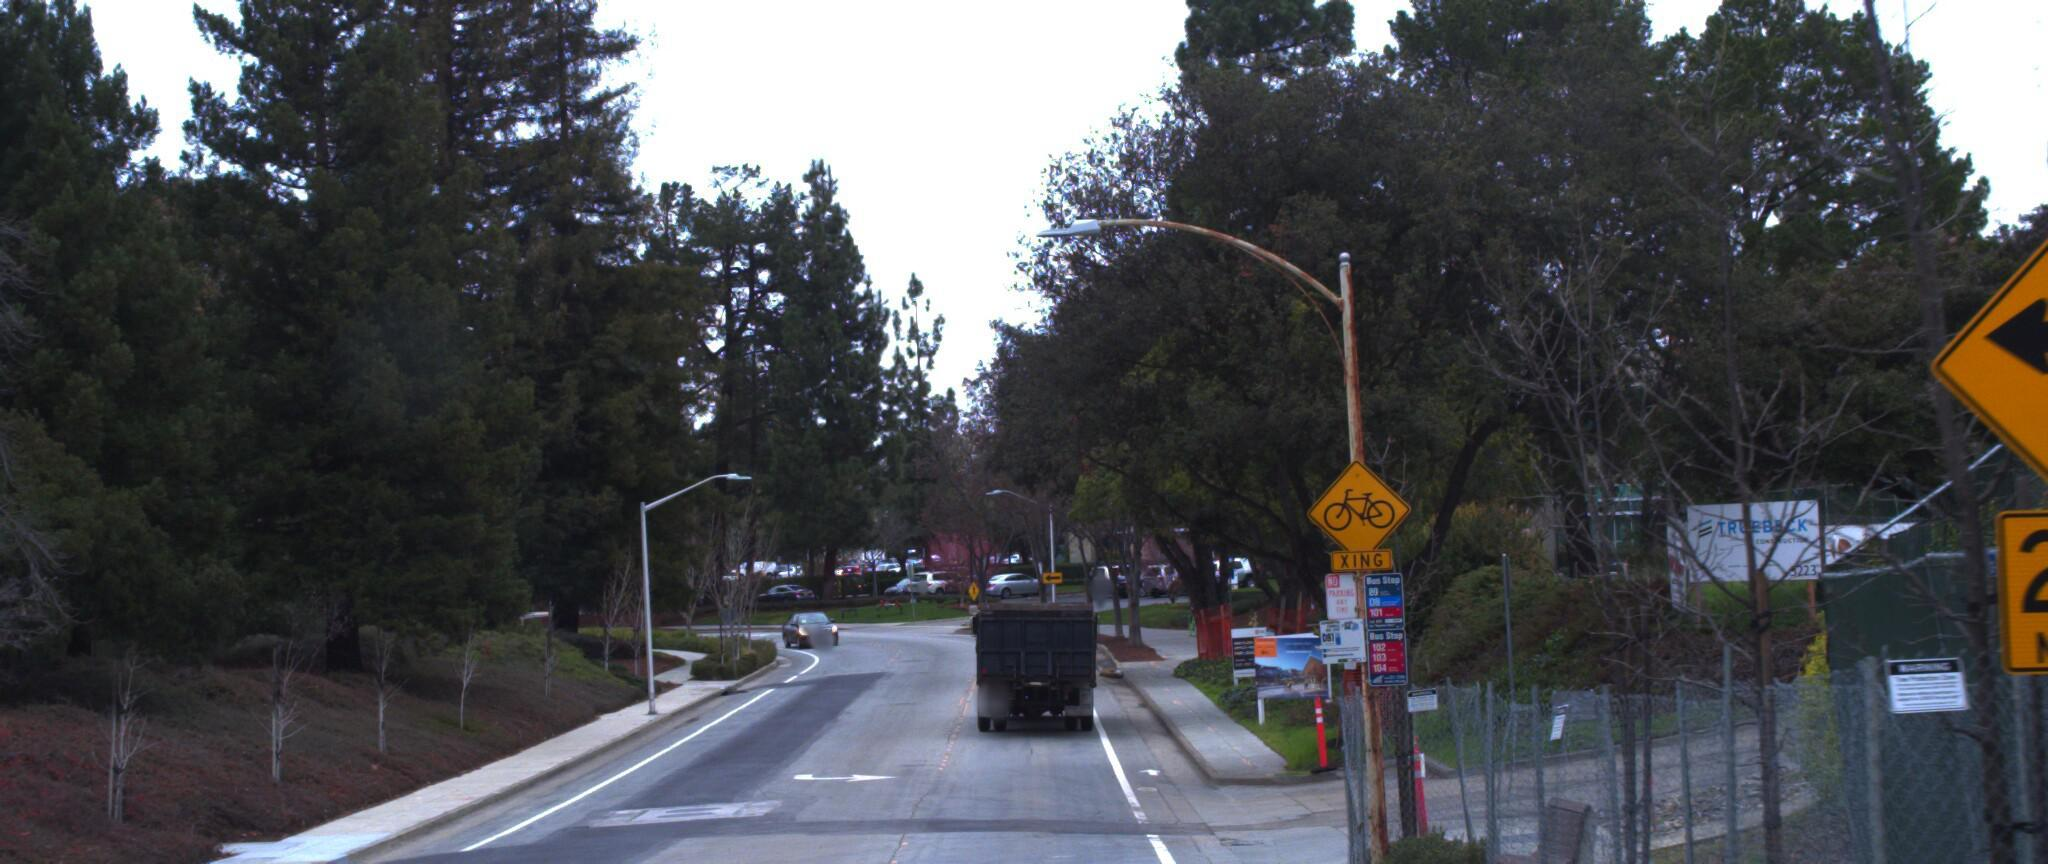truck: (967, 563, 1110, 736)
